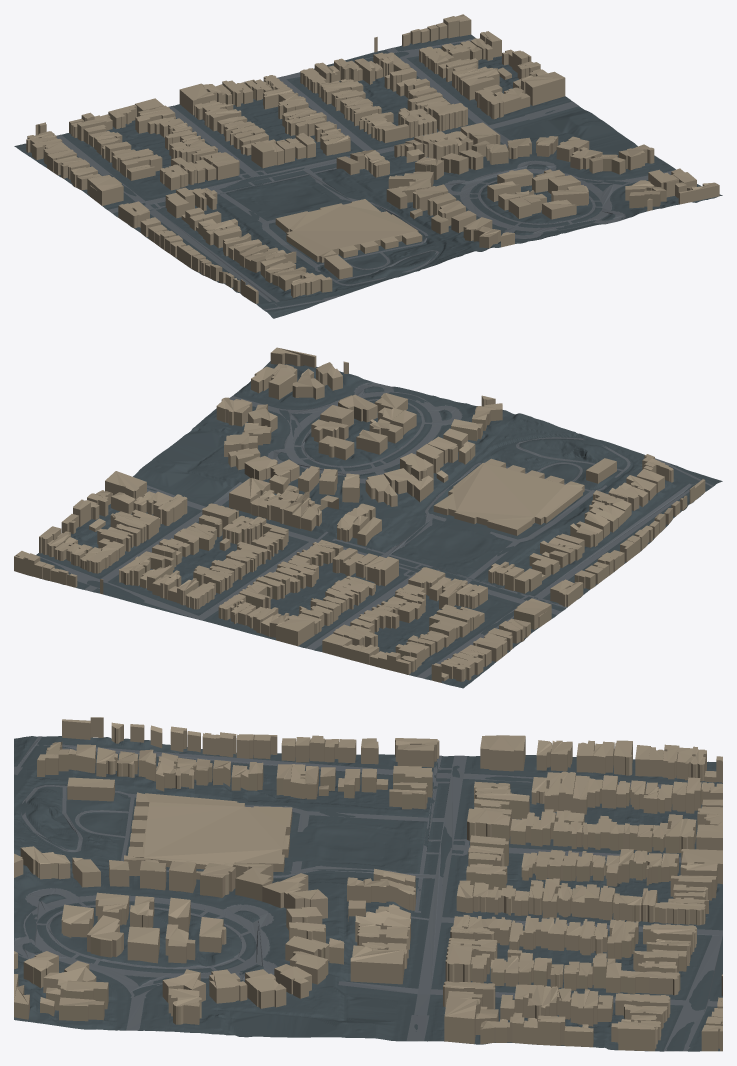
The model's file is epsg26910-1425-10891.lod0.glb.
The picture shows the model from 3 angles, top to bottom: view 1: azimuth 30°, elevation 25°; view 2: azimuth 150°, elevation 25°; view 3: azimuth 270°, elevation 25°; orthographic projection. The views are drawn at different scales.
Parts seen in each view (by area): view 1: epsg26910-1425-10891-lod0; view 2: epsg26910-1425-10891-lod0; view 3: epsg26910-1425-10891-lod0.
Boxes of the visible parts, x1=… form: epsg26910-1425-10891-lod0: x1=14, y1=14, x2=722, y2=318; epsg26910-1425-10891-lod0: x1=14, y1=347, x2=722, y2=688; epsg26910-1425-10891-lod0: x1=14, y1=717, x2=722, y2=1051.
Bounding box in the file's own units: 384 × 36.58 × 384.
